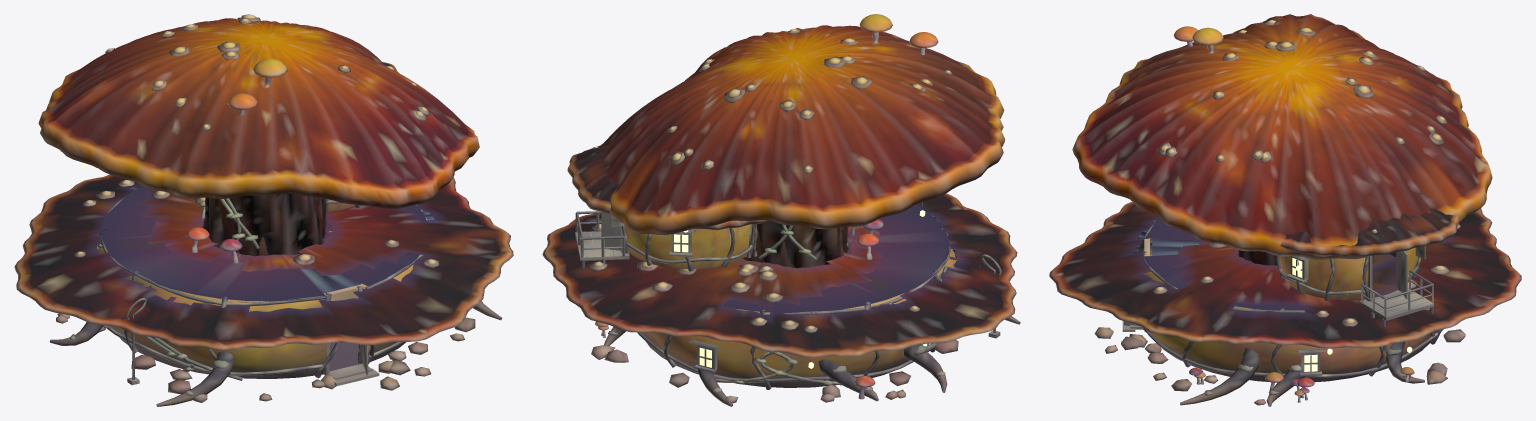
Rendered from ev_iki_kat.glb.
3 views of the same model, side by side, from view 1: azimuth 30°, elevation 25°; view 2: azimuth 150°, elevation 25°; view 3: azimuth 270°, elevation 25° (orthographic). The views are drawn at different scales.
Visible parts, largest first — view 1: ev_iki_kat_LOD0; view 2: ev_iki_kat_LOD0; view 3: ev_iki_kat_LOD0.
Boxes of the visible parts, x1=… form: ev_iki_kat_LOD0: x1=14, y1=14, x2=513, y2=406; ev_iki_kat_LOD0: x1=542, y1=14, x2=1020, y2=406; ev_iki_kat_LOD0: x1=1049, y1=14, x2=1521, y2=406.
Size of what is drawn, in the model's own units: 25.67 by 17.1 by 26.
